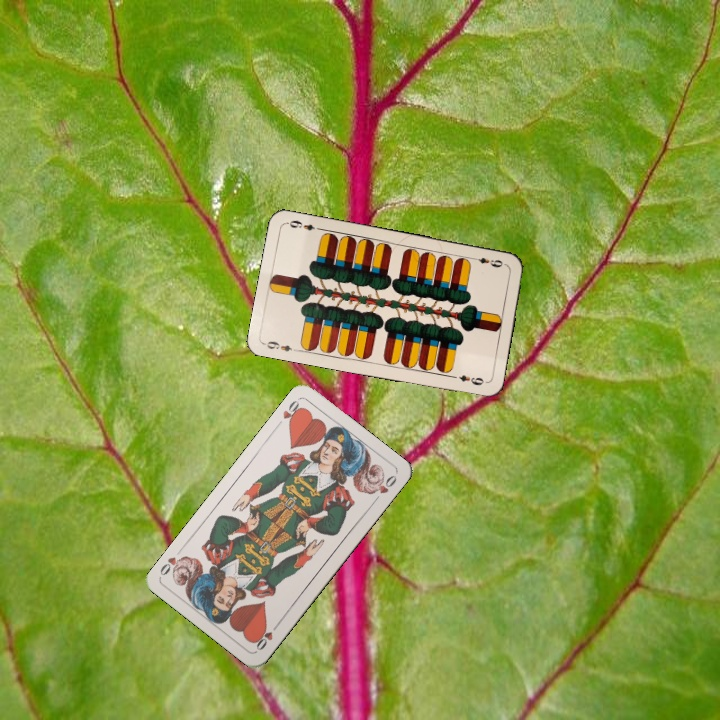E9: (468, 253, 509, 270), (261, 337, 301, 354)
HO: (273, 395, 305, 430), (251, 619, 282, 653)
